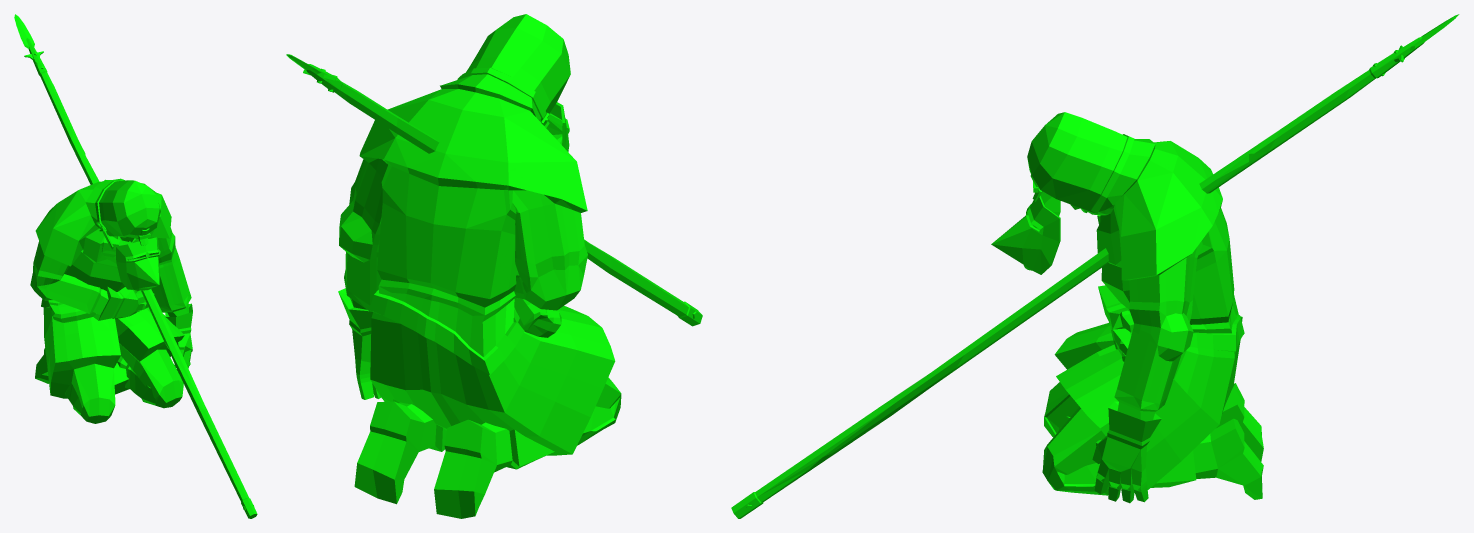
Rendered from SM_Corpse_Human_Soldier_G_Fantasy.fbx.
The picture shows the model from 3 angles, left to right: view 1: azimuth 30°, elevation 25°; view 2: azimuth 150°, elevation 25°; view 3: azimuth 270°, elevation 25°; orthographic projection. The views are drawn at different scales.
Parts seen in each view (by area): view 1: corpse-human-soldier-g-body-medieval, corpse-human-soldier-g-weapon-medieval; view 2: corpse-human-soldier-g-body-medieval, corpse-human-soldier-g-weapon-medieval; view 3: corpse-human-soldier-g-body-medieval, corpse-human-soldier-g-weapon-medieval.
Part boxes in pixels (x1,y1,x2,y2): corpse-human-soldier-g-body-medieval: (30, 178, 192, 423); corpse-human-soldier-g-weapon-medieval: (14, 14, 257, 518); corpse-human-soldier-g-body-medieval: (338, 14, 621, 518); corpse-human-soldier-g-weapon-medieval: (286, 54, 702, 326); corpse-human-soldier-g-body-medieval: (991, 112, 1263, 503); corpse-human-soldier-g-weapon-medieval: (731, 14, 1459, 518).
Bounding box in the file's own units: 0.6896 × 1.46 × 1.91.
